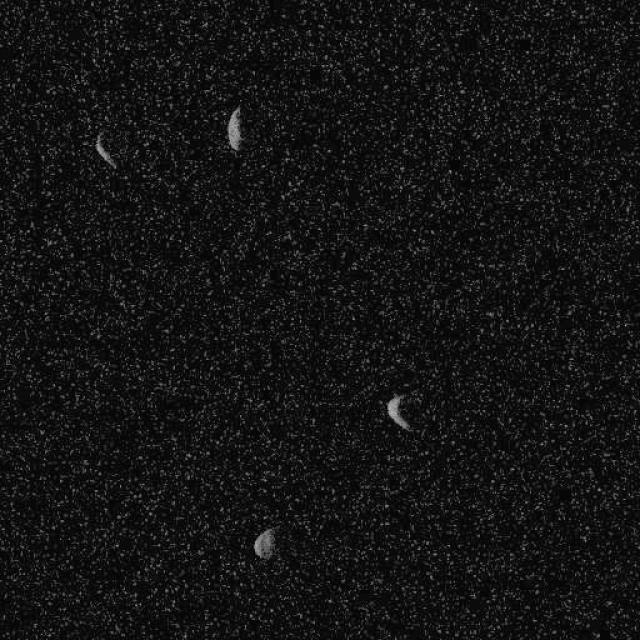D2: (385, 391, 414, 431), (94, 131, 118, 170), (225, 104, 244, 151), (253, 526, 275, 560)
